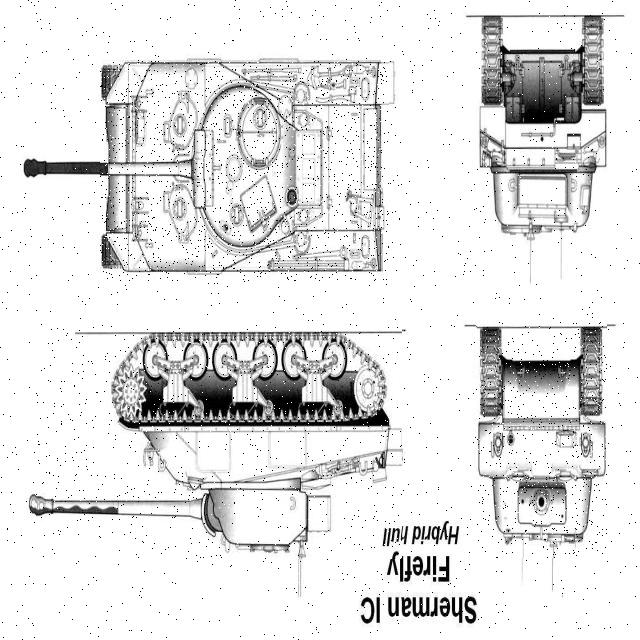MIL_MBT: (36, 324, 401, 558), (100, 61, 389, 281), (477, 322, 607, 558), (480, 24, 610, 247)
